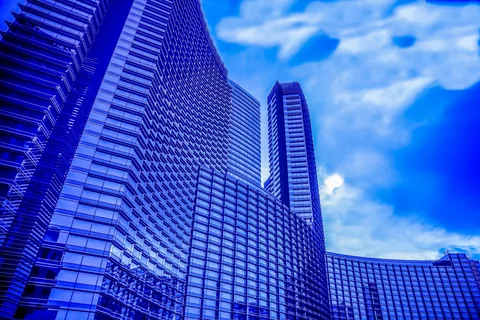high_rise_building: (259, 76, 324, 210)
